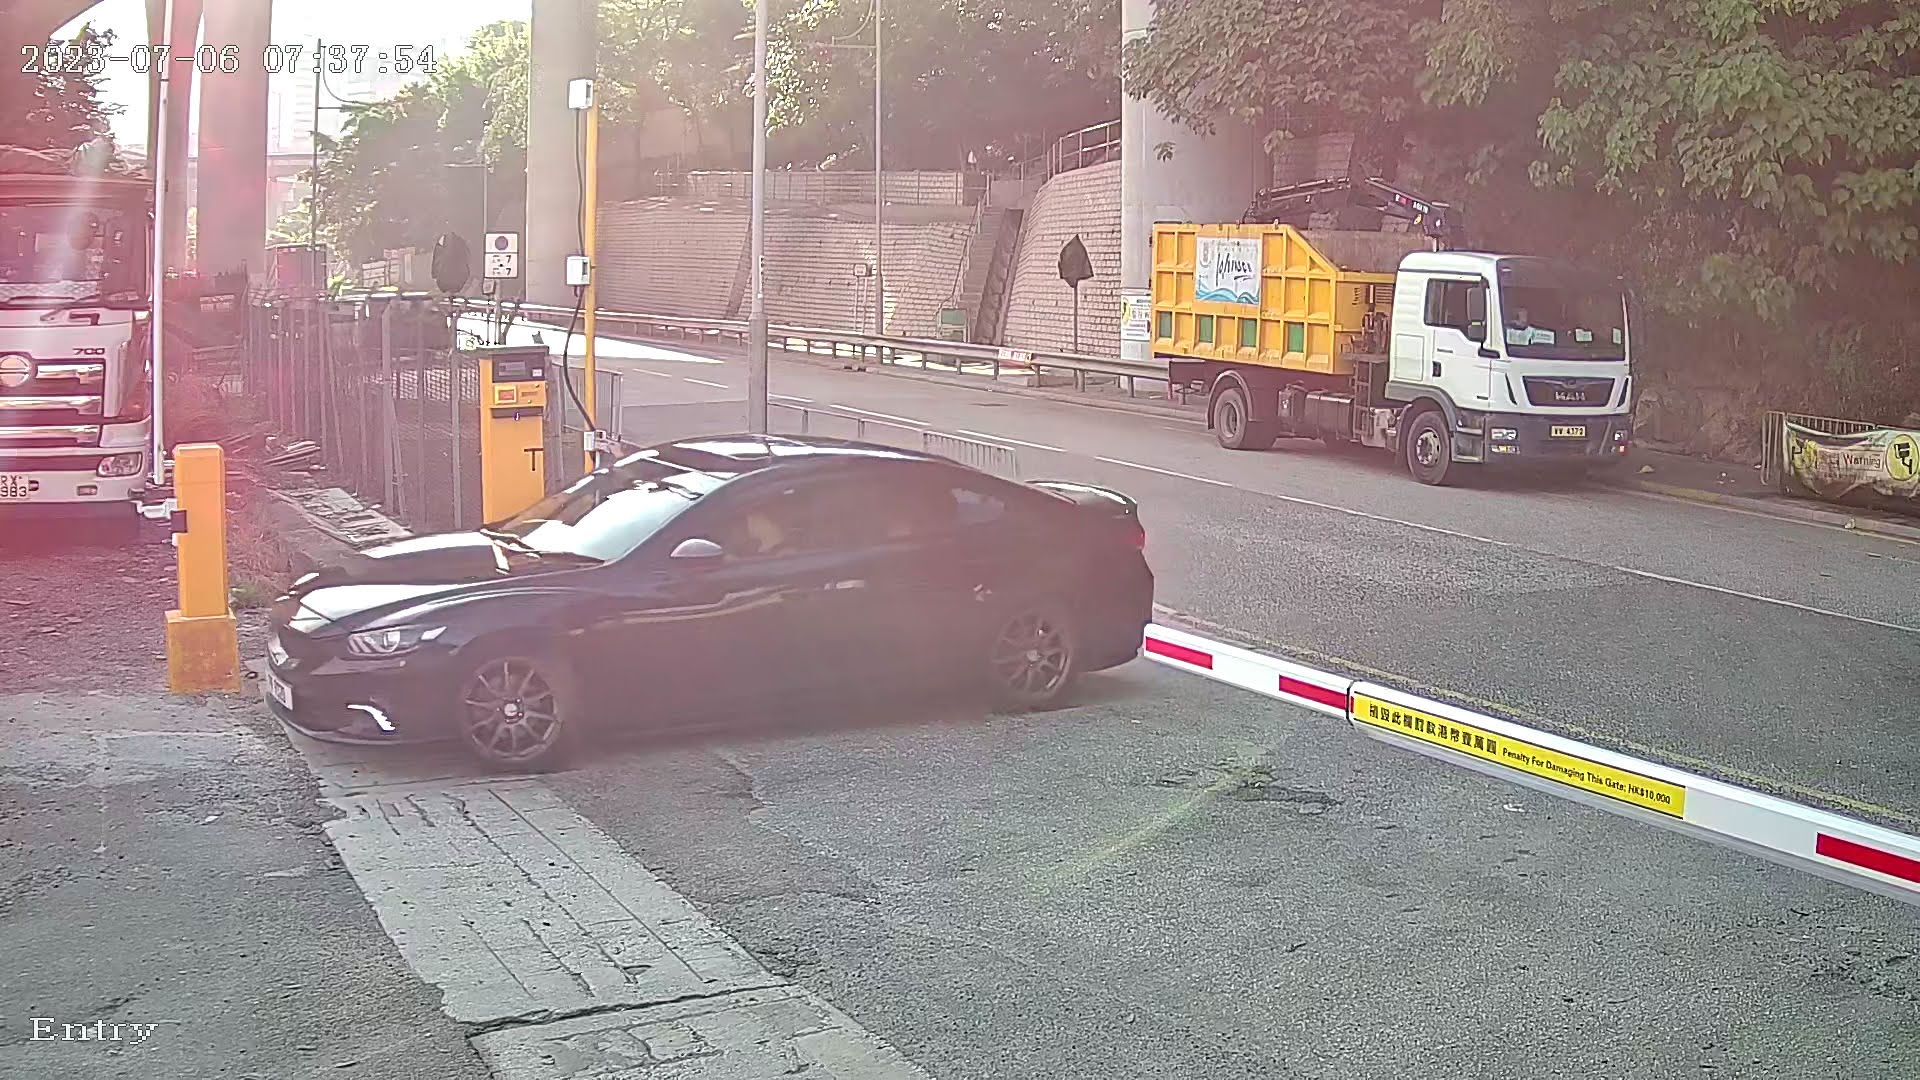privatecar: (247, 392, 1209, 837)
